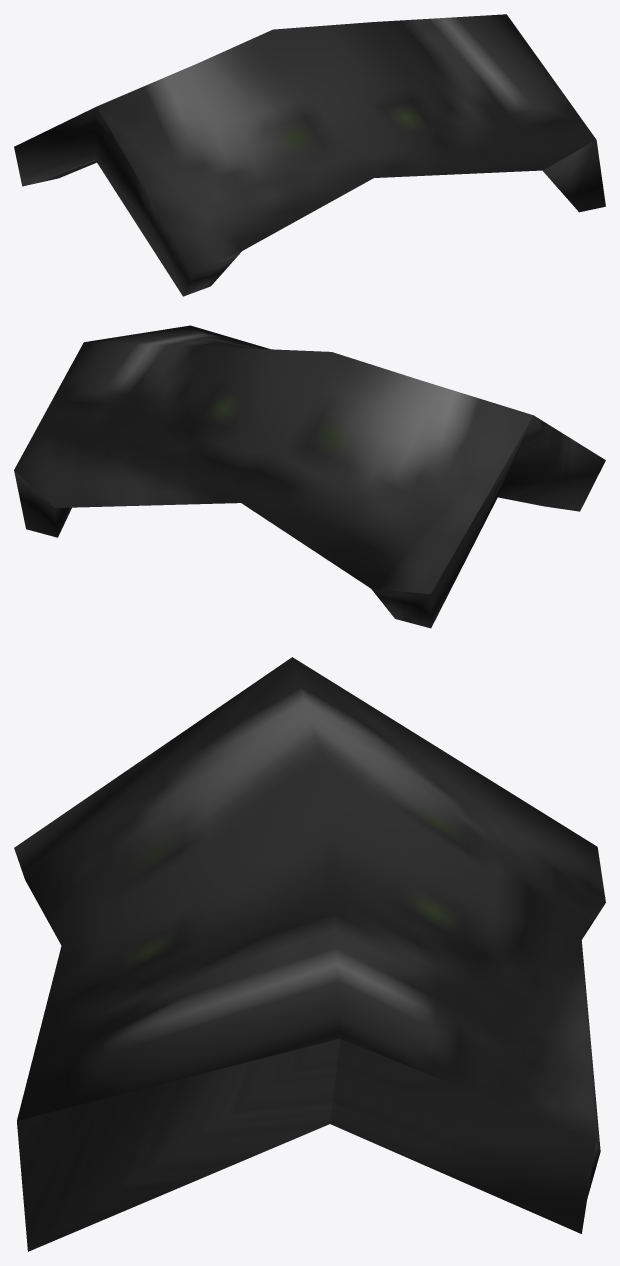
File: Kneepad_Ground_L.fbx
The picture shows the model from 3 angles, top to bottom: view 1: azimuth 30°, elevation 25°; view 2: azimuth 150°, elevation 25°; view 3: azimuth 270°, elevation 25°; orthographic projection. The views are drawn at different scales.
Visible parts, largest first — view 1: Kneepad_Ground_L; view 2: Kneepad_Ground_L; view 3: Kneepad_Ground_L.
Part boxes in pixels (box(x1,y1,x2,y2)): Kneepad_Ground_L: box(14, 14, 605, 296); Kneepad_Ground_L: box(14, 325, 605, 628); Kneepad_Ground_L: box(14, 657, 605, 1251).
Bounding box in the file's own units: 1.01 × 0.3835 × 0.722.
